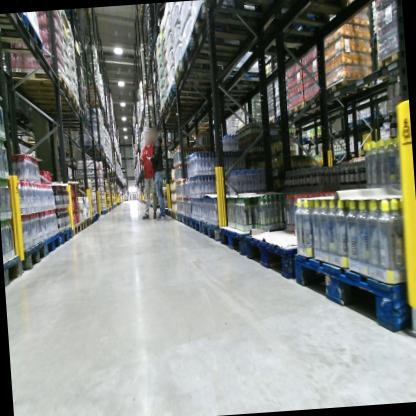pallet: (293, 241, 415, 343), (243, 224, 323, 284), (188, 4, 252, 54), (248, 17, 324, 59), (179, 34, 250, 76), (266, 0, 372, 28), (6, 61, 71, 100), (218, 220, 274, 263), (0, 13, 47, 58), (202, 0, 290, 24), (172, 54, 221, 94), (322, 75, 377, 110), (167, 78, 223, 106), (21, 86, 78, 111), (374, 45, 406, 86), (217, 70, 265, 97), (301, 89, 342, 119), (19, 238, 50, 274), (33, 102, 82, 120), (3, 255, 26, 292), (49, 110, 89, 130), (275, 99, 306, 123), (161, 103, 199, 122), (162, 93, 195, 113), (51, 119, 92, 134), (357, 110, 393, 126), (201, 219, 225, 243), (182, 119, 213, 135), (43, 232, 61, 257), (159, 114, 195, 126), (0, 13, 25, 25), (59, 225, 74, 244), (79, 143, 104, 153), (342, 117, 361, 130), (191, 216, 204, 235), (182, 213, 193, 230), (83, 87, 102, 96), (308, 134, 324, 144), (296, 134, 309, 146), (72, 221, 82, 236), (78, 219, 88, 233), (265, 117, 277, 128), (85, 217, 93, 229), (61, 145, 70, 155), (176, 213, 183, 224), (171, 210, 178, 220), (89, 215, 96, 225), (99, 208, 107, 216), (93, 213, 100, 222), (163, 207, 169, 216), (168, 208, 173, 218)
